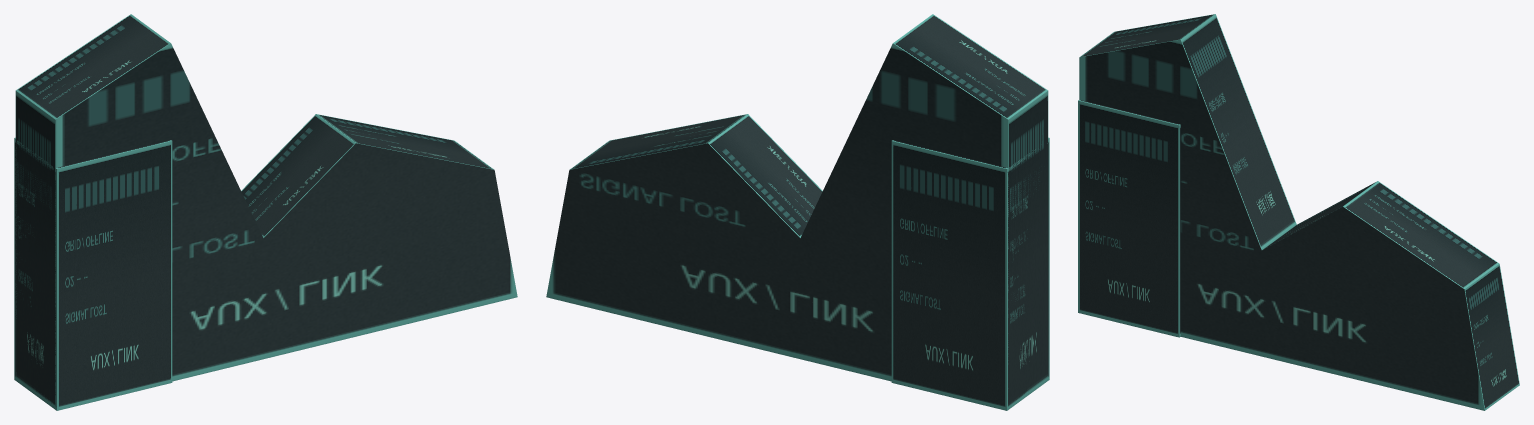
Rendered from wall_fragment_LOD3.obj.
3 renders of one model, left to right at view 1: azimuth 30°, elevation 25°; view 2: azimuth 150°, elevation 25°; view 3: azimuth 330°, elevation 25°, orthographic. The views are drawn at different scales.
Visible parts, largest first — view 1: L02_wall_fragment_LOD3; view 2: L02_wall_fragment_LOD3; view 3: L02_wall_fragment_LOD3.
Part boxes in pixels (x1,y1,x2,y2): L02_wall_fragment_LOD3: [14, 14, 517, 410]; L02_wall_fragment_LOD3: [546, 14, 1049, 410]; L02_wall_fragment_LOD3: [1078, 14, 1519, 410].
Size of the model in its own units: 2 by 1.4 by 0.32.
Materials: 1 (1 with a texture image).
